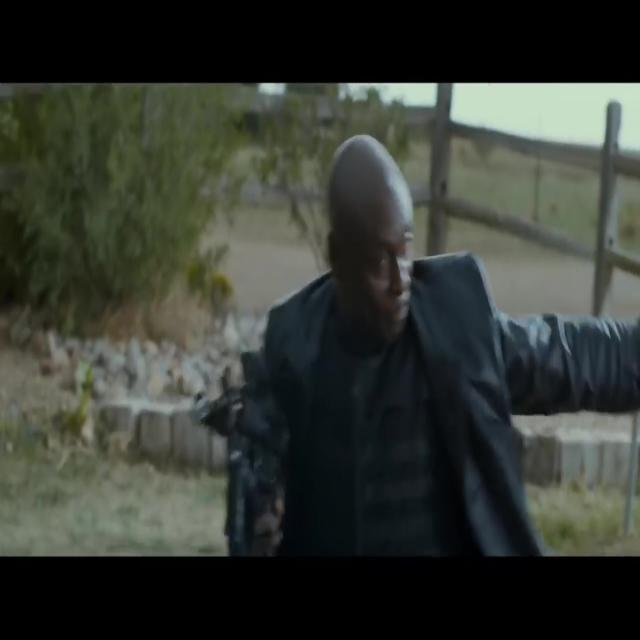Weapon: (183, 304, 390, 535)
